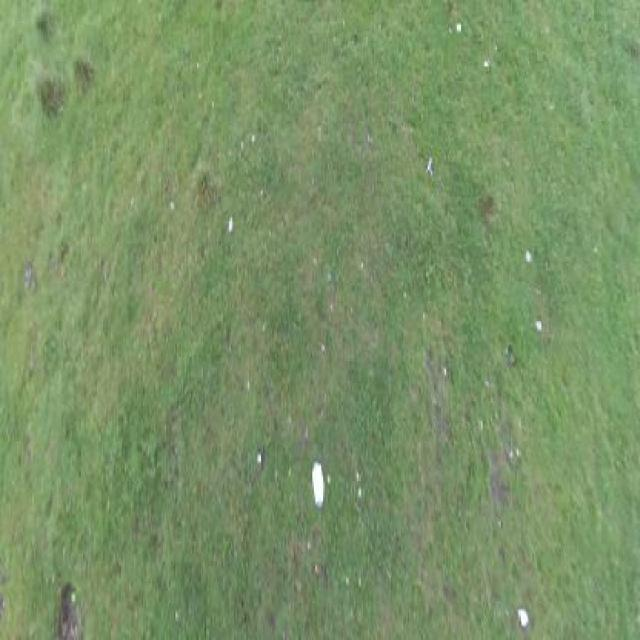Garbage: (312, 461, 325, 508)
